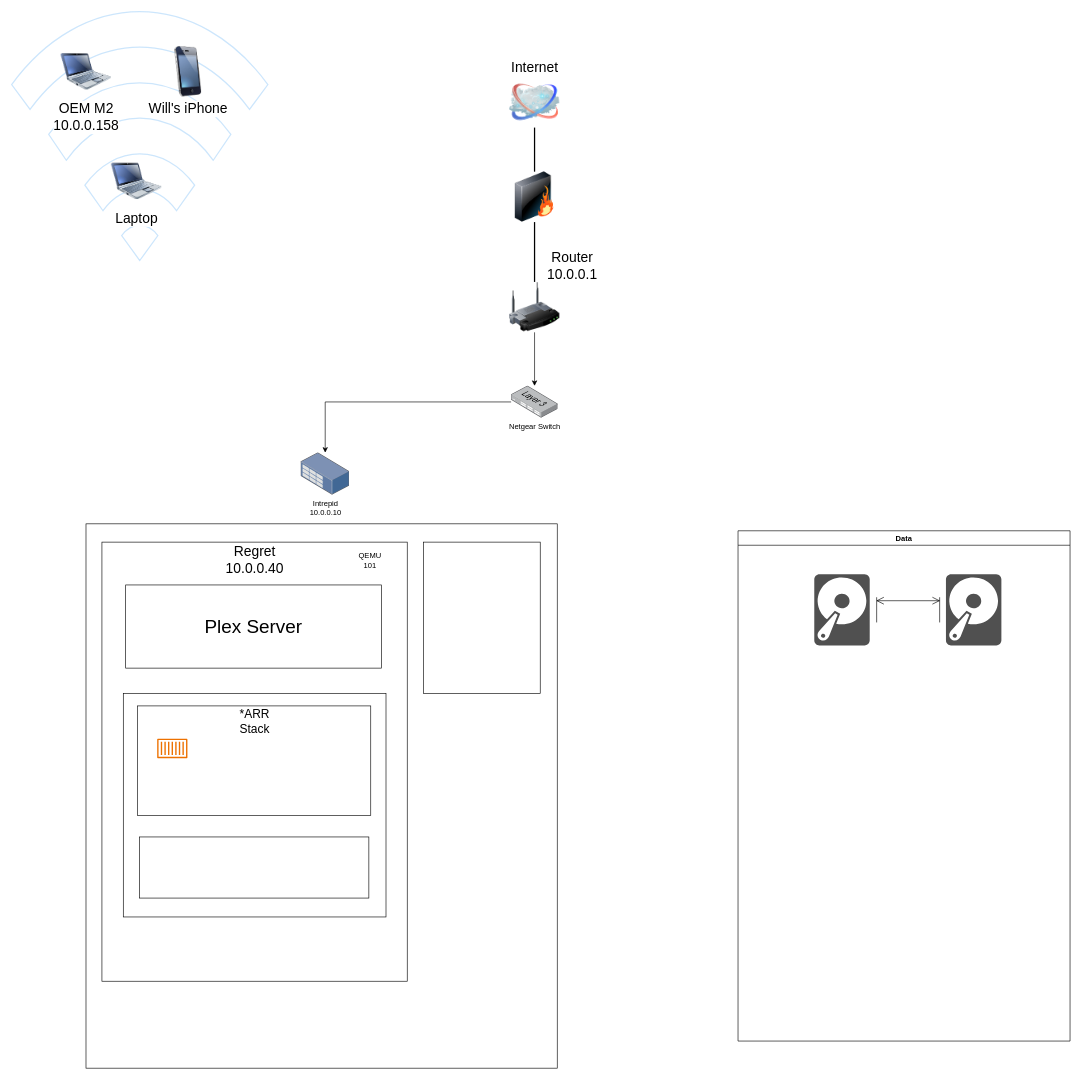
Image size: 1081x1079. Some labels were removed from this diagram. The shapes that lost their labels are listed below. From the top down, each one's centre as x and y in pixels, then its label:
pixel 534 196: Gateway
pixel 481 617: Samba
pixel 908 609: Mirrored
pixel 254 867: Nginx-Proxy-Manager
